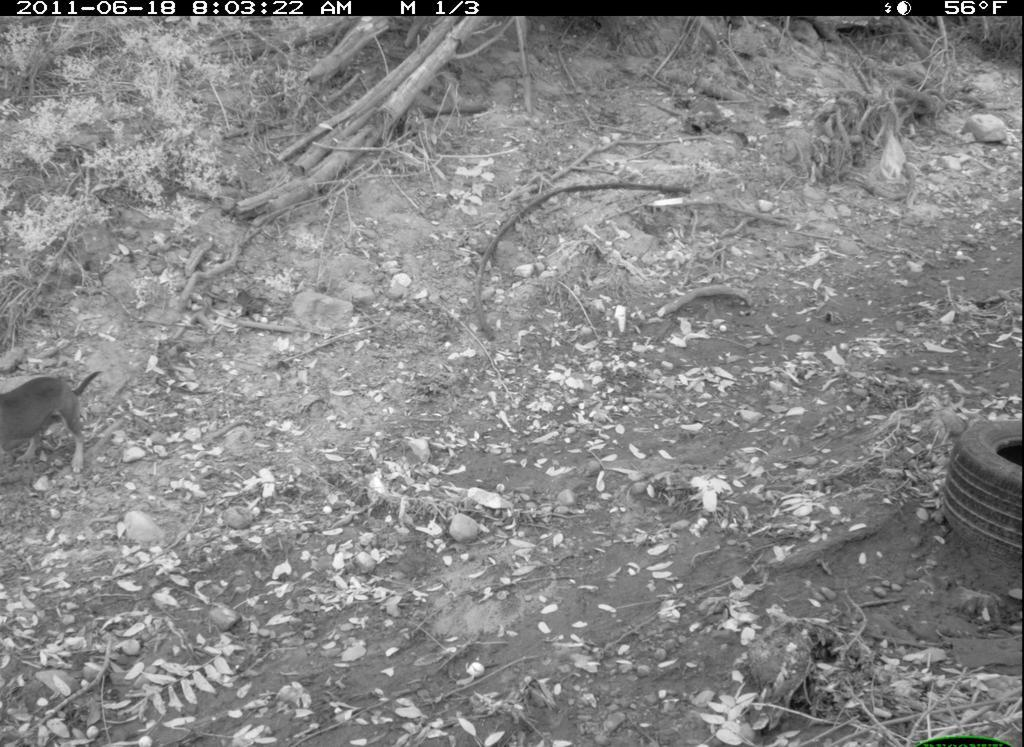dog: (1, 364, 109, 483)
